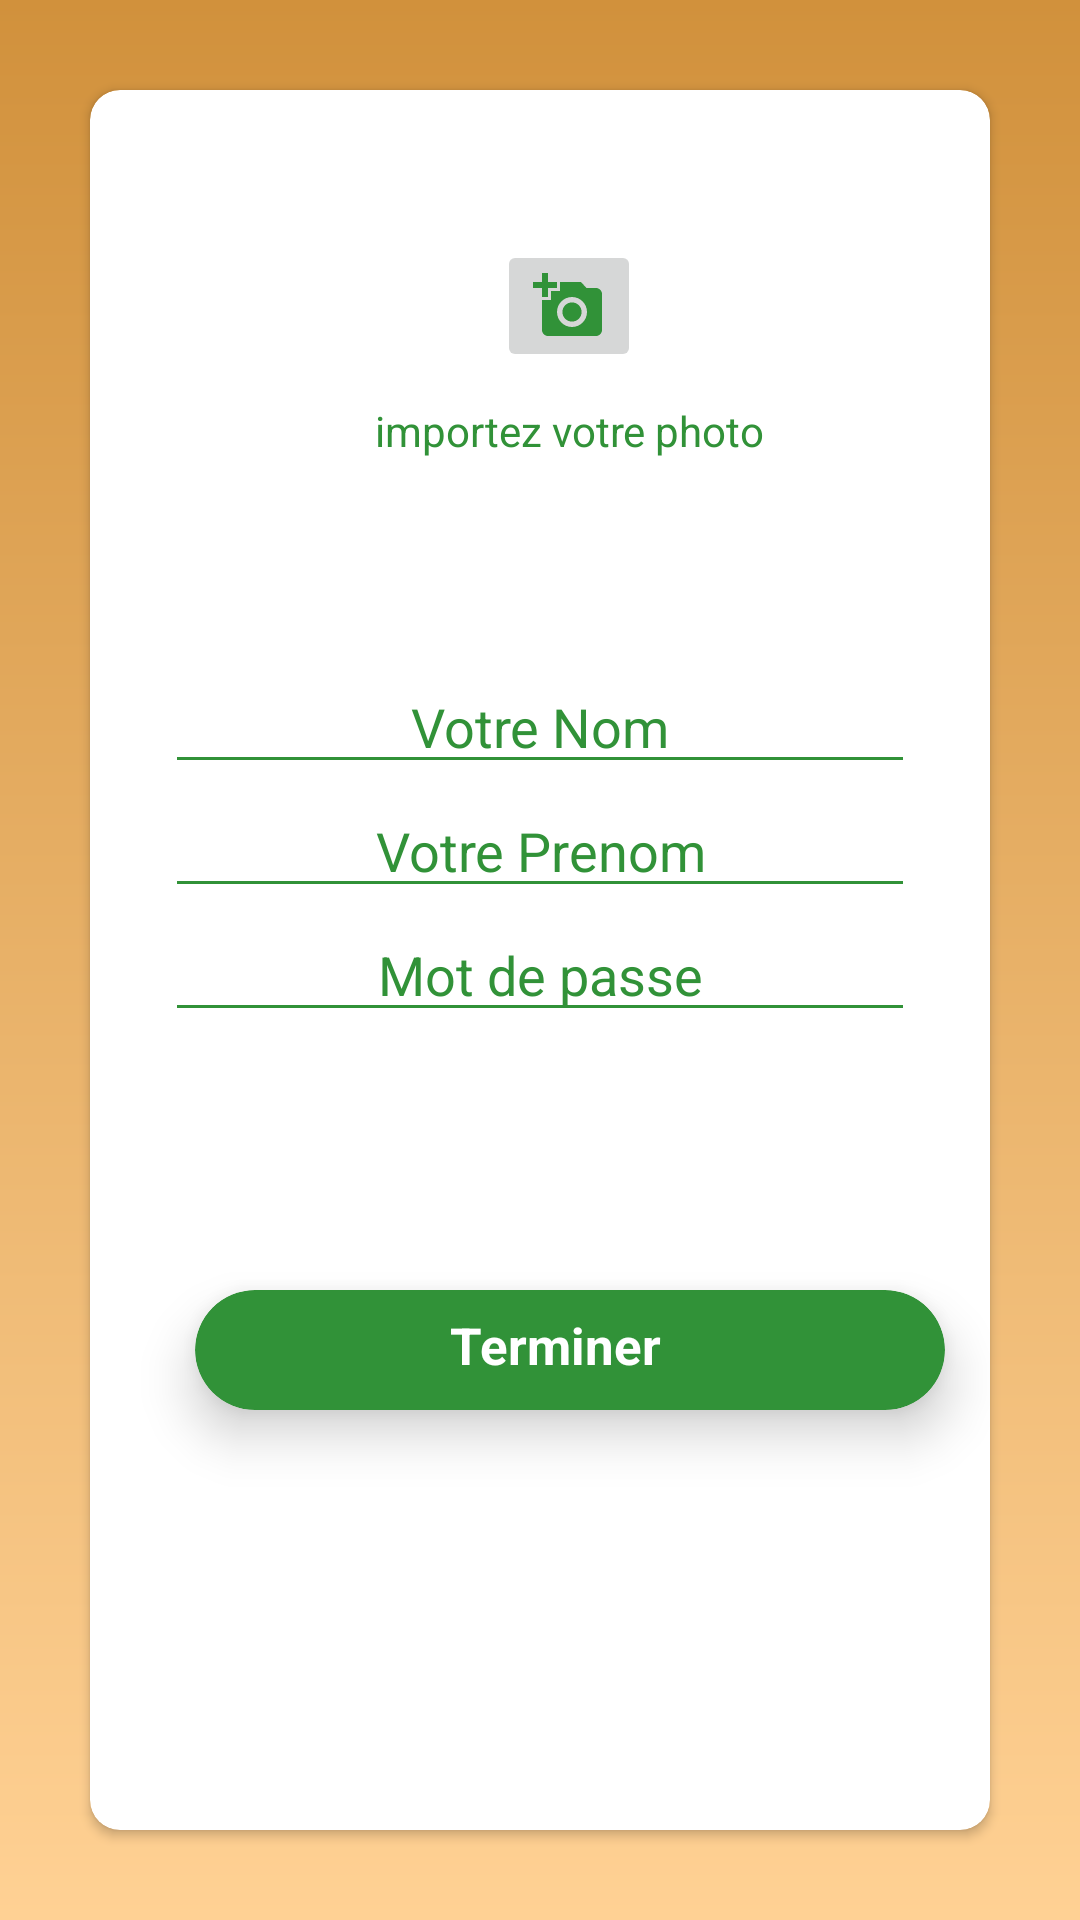

Screen size 1080 x 1920. Icon name, then its box in pixels as (x1, y1, x2, y2):
add photo: (509, 258, 629, 354)
